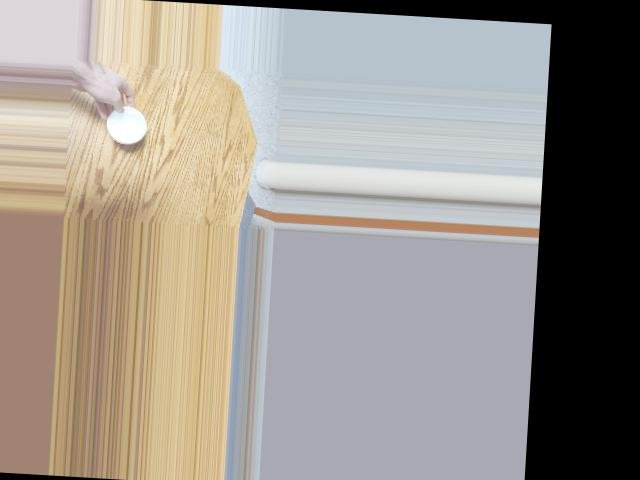cotage: (99, 99, 152, 145)
